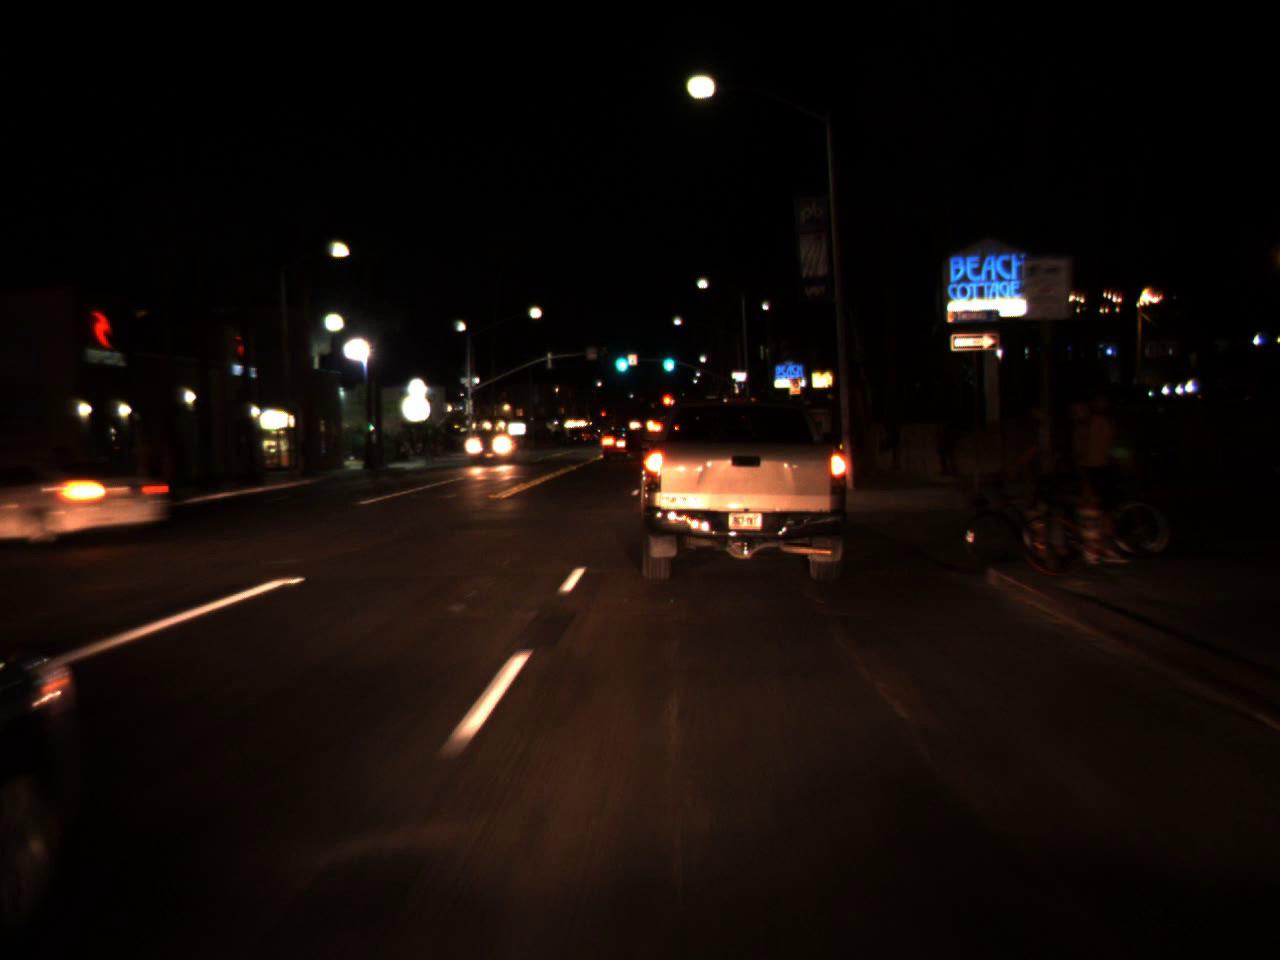go: (610, 341, 631, 377), (659, 341, 677, 377)
